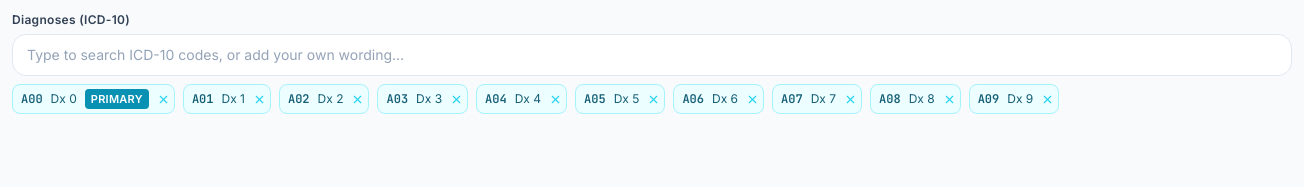
Test case: IcdDiagnosisPicker › counts custom entries toward the 10-diagnosis limit
Type "birth trauma" into the dropdown labelled "Diagnoses (ICD-10)" at (652, 55), box [12,34,1292,76]
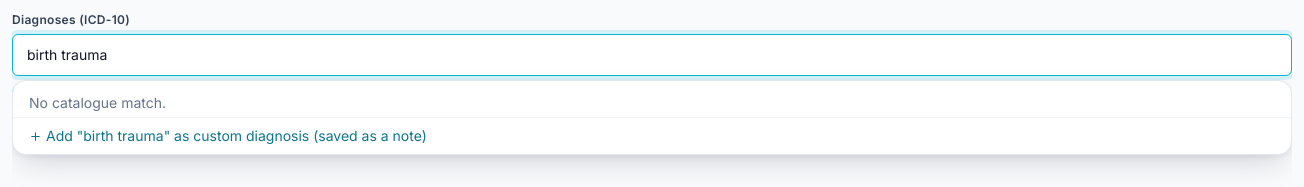
Click the option "Add \"birth trauma\" as custom diagnosis (saved as a note)" at (65, 136), box [13,117,1291,154]
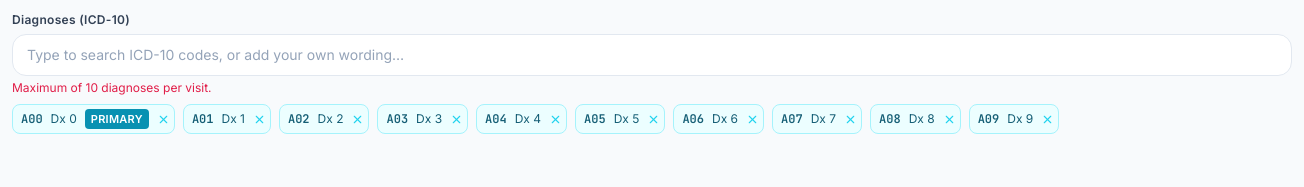
expect the option "birth trauma" is gone: met
expect the text "Maximum of 10 diagnoses per visit." is shown: met, box [12,80,212,95]
